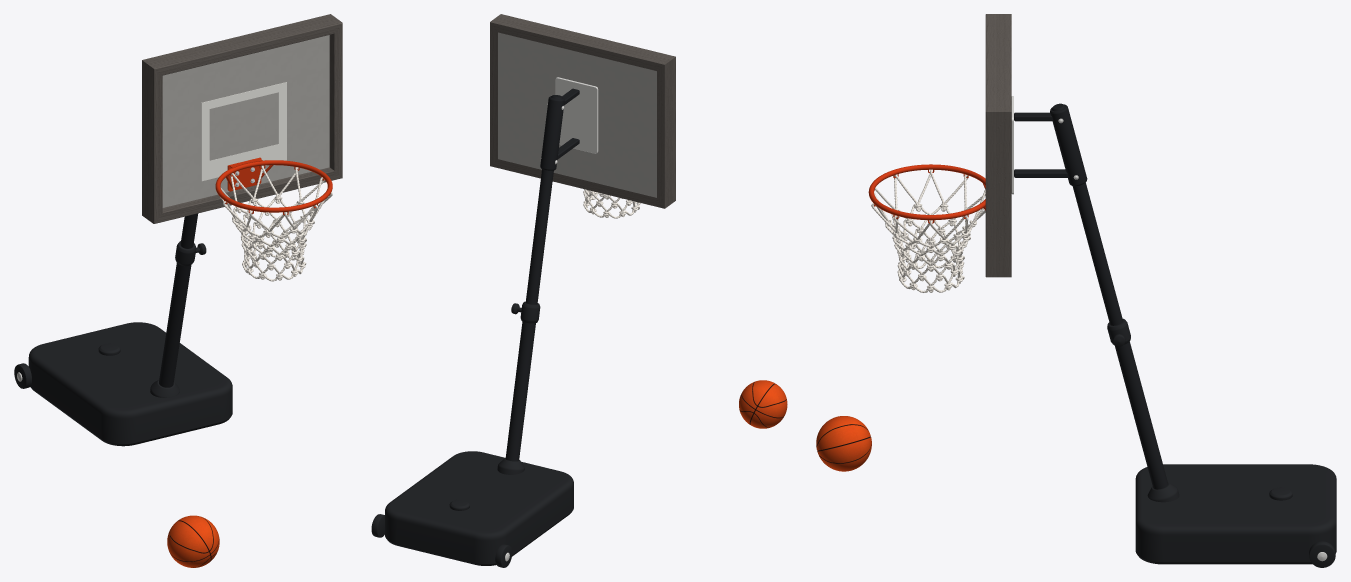
The model's file is sports.glb.
3 views of the same model, side by side, from view 1: azimuth 30°, elevation 25°; view 2: azimuth 150°, elevation 25°; view 3: azimuth 270°, elevation 25° (orthographic). The views are drawn at different scales.
Parts seen in each view (by area): view 1: board_hoop_board_face, hoop_stand, board_hoop_frame, board_hoop_target_paint, net-strands, hoop_pole, net-knots, ball_mesh_mesh, rim_hoop_rim_paint; view 2: board_hoop_board_face, hoop_stand, board_hoop_frame, hoop_pole, hoop_hardware, ball_mesh_mesh; view 3: hoop_stand, board_hoop_frame, hoop_pole, net-strands, ball_mesh_mesh, net-knots, rim_hoop_rim_paint.
Boxes of the visible parts, <box> form: board_hoop_board_face: <box>162,35,329,207</box>; hoop_stand: <box>14,241,232,446</box>; board_hoop_frame: <box>142,14,342,223</box>; board_hoop_target_paint: <box>201,82,286,181</box>; net-strands: <box>220,167,331,281</box>; hoop_pole: <box>159,213,198,387</box>; net-knots: <box>232,195,314,280</box>; ball_mesh_mesh: <box>167,515,219,567</box>; rim_hoop_rim_paint: <box>215,157,332,215</box>; board_hoop_board_face: <box>498,32,656,197</box>; hoop_stand: <box>371,301,573,567</box>; board_hoop_frame: <box>490,14,675,208</box>; hoop_pole: <box>505,88,579,461</box>; hoop_hardware: <box>505,77,598,561</box>; ball_mesh_mesh: <box>739,380,787,428</box>; hoop_stand: <box>1107,318,1336,567</box>; board_hoop_frame: <box>985,14,1011,277</box>; hoop_pole: <box>1014,103,1168,489</box>; net-strands: <box>872,171,985,292</box>; ball_mesh_mesh: <box>816,416,871,471</box>; net-knots: <box>885,202,976,292</box>; rim_hoop_rim_paint: <box>868,164,985,223</box>.
Size of what is drawn, in the model's own units: 2.63 by 4.64 by 4.67.
Materials: 10 (4 with a texture image).
